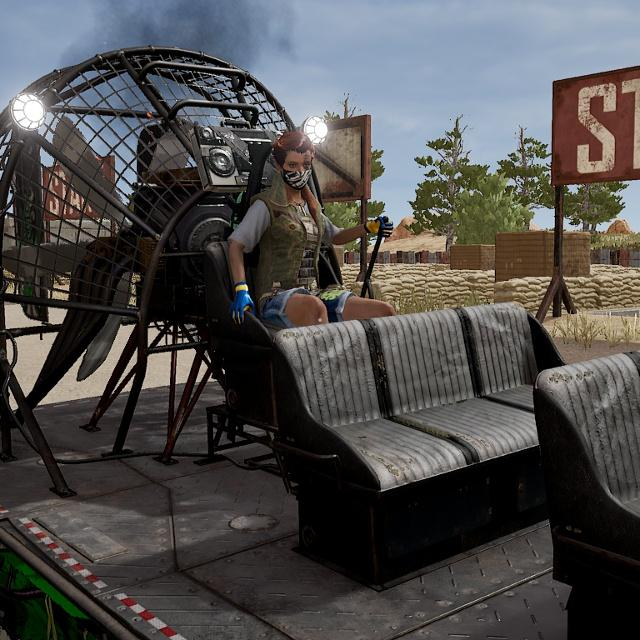head: (269, 127, 319, 196)
people: (233, 128, 395, 329)
